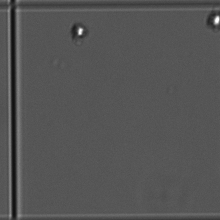Living Cell: (68, 20, 92, 42), (207, 9, 220, 31)
